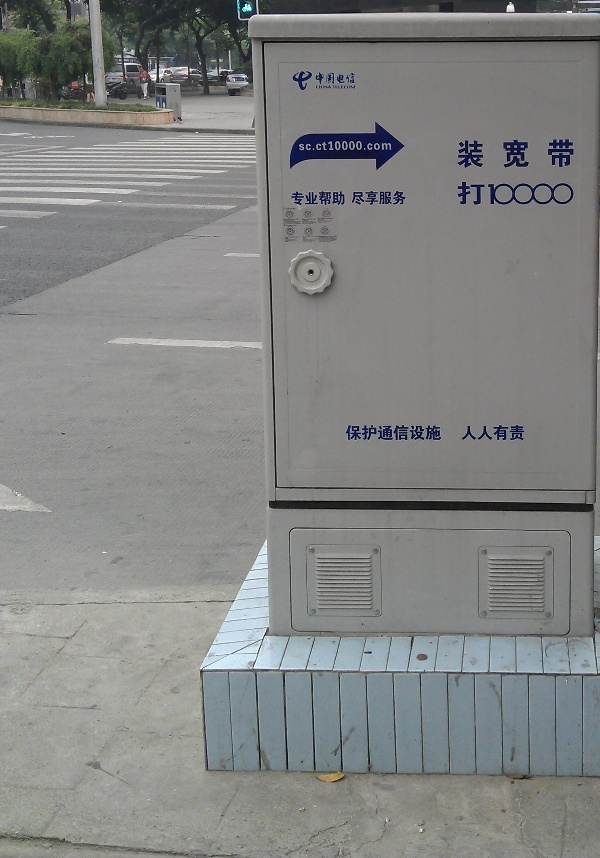text: (465, 139, 480, 169), (481, 139, 496, 169), (497, 139, 512, 169), (513, 139, 528, 169), (529, 139, 544, 169), (545, 139, 560, 169), (561, 139, 575, 169), (465, 181, 480, 207), (481, 181, 496, 207), (497, 181, 512, 207), (513, 181, 528, 207), (529, 181, 544, 207), (545, 181, 560, 207), (561, 181, 575, 207), (353, 425, 368, 443), (369, 425, 384, 443), (385, 425, 400, 443), (401, 425, 416, 443), (417, 425, 432, 443), (465, 425, 480, 442), (481, 425, 496, 442), (497, 425, 512, 442), (456, 139, 464, 169), (305, 191, 320, 206), (321, 191, 336, 206), (353, 191, 368, 206), (369, 191, 384, 206), (385, 191, 400, 206), (513, 425, 526, 442), (456, 181, 464, 207), (321, 72, 336, 85), (337, 72, 352, 85), (292, 191, 304, 206), (433, 425, 443, 443), (305, 141, 320, 151), (321, 141, 336, 151), (337, 141, 352, 151), (353, 141, 368, 151), (369, 141, 384, 151), (337, 191, 346, 206), (346, 425, 352, 443), (401, 191, 407, 206), (337, 85, 352, 90), (385, 141, 392, 151), (460, 425, 464, 442), (315, 72, 320, 85), (321, 85, 332, 90), (299, 141, 304, 151), (353, 72, 356, 85), (316, 85, 320, 90), (333, 85, 336, 90), (353, 85, 356, 90), (351, 191, 352, 206)
